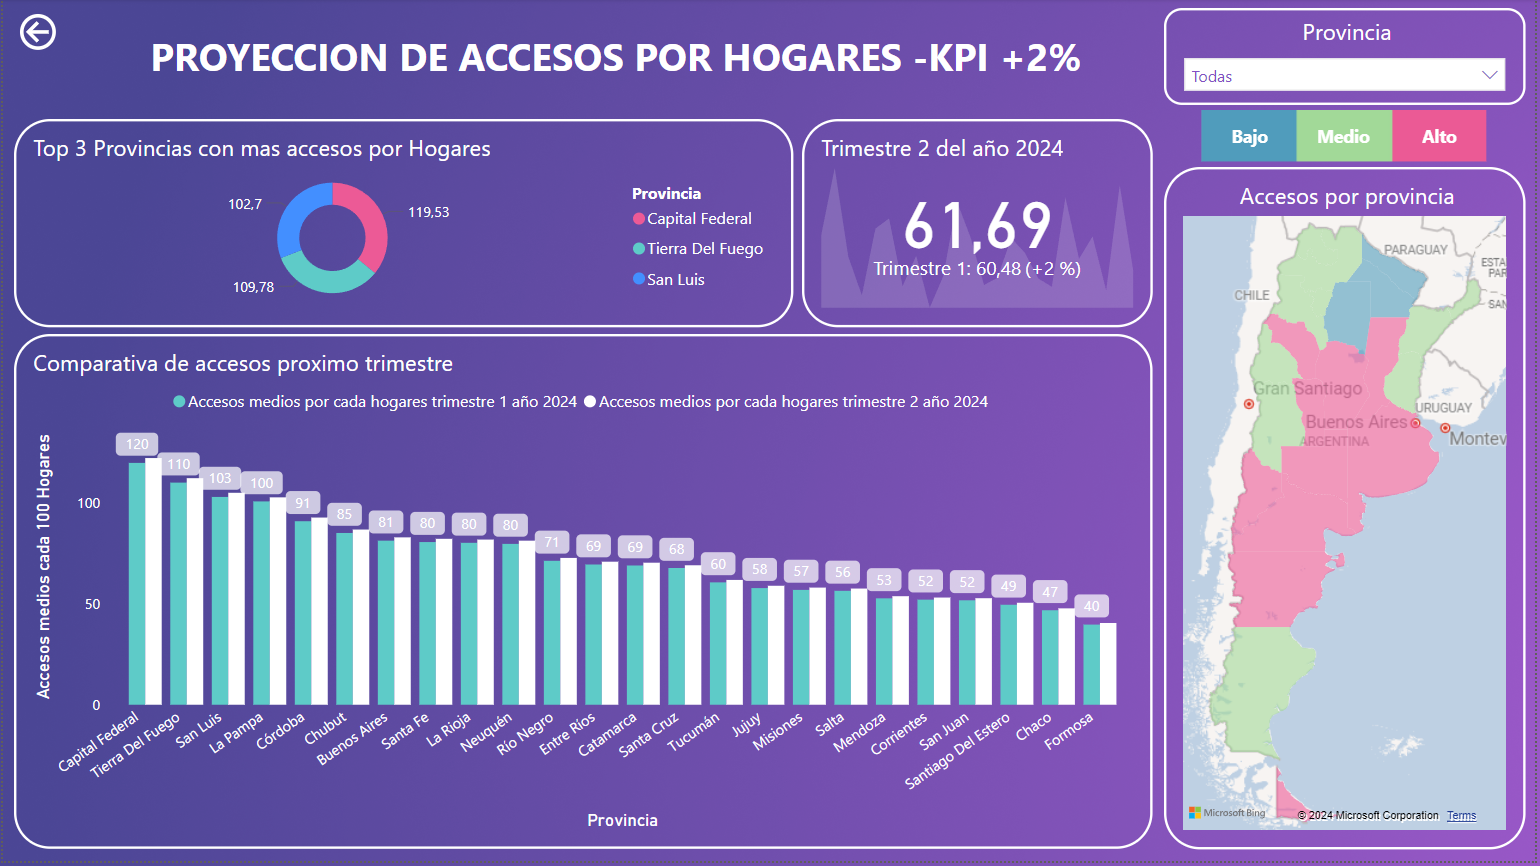

Layout of this report page (visuals, bound fields, positions):
{"tool":"powerbi","page":{"name":"Proyeccion de accesos por cada 100 hogares","canvas":[1280,720],"ordinal":2},"visuals":[{"type":"lineClusteredColumnComboChart","title":"Comparativa de accesos proximo trimestre","fields":{"Category":["acceso_por_prov_poblacion_hogares.Provincia"],"Y":["Median(acceso_por_prov_poblacion_hogares.Accesos por cada 100 hogares)","Median(acceso_por_prov_poblacion_hogares.Nuevo_acceso)"]},"box":[9.1,280,950.9,430],"z":0},{"type":"actionButton","box":[9.1,7.3,40,40],"z":1000},{"type":"slicer","title":"Provincia","fields":{"Values":["acceso_por_prov_poblacion_hogares.Provincia"]},"box":[970,7.3,301.8,80.9],"z":2000},{"type":"kpi","title":"Trimestre 2 del año 2024","fields":{"Goal":["Median(acceso_por_prov_poblacion_hogares.Accesos por cada 100 hogares)"],"TrendLine":["acceso_por_prov_poblacion_hogares.Provincia"],"Indicator":["Median(acceso_por_prov_poblacion_hogares.Nuevo_acceso)"]},"box":[667.3,100,292.7,173.6],"z":3000},{"type":"textbox","box":[84.5,20,799.1,56.4],"z":4000},{"type":"filledMap","title":"Accesos por provincia","fields":{"Y":["Avg(coordenadas.Latitud)"],"X":["Avg(coordenadas.Longitud)"],"Category":["coordenadas.Provincia"],"Series":["acceso_por_prov_poblacion_hogares.Accesos por cada 100 hogares"]},"box":[970,133.6,301.8,576.4],"z":5000},{"type":"donutChart","title":"Top 3 Provincias con mas accesos por Hogares","fields":{"Category":["acceso_por_prov_poblacion_hogares.Provincia"],"Y":["Median(acceso_por_prov_poblacion_hogares.Accesos por cada 100 hogares)"]},"box":[9.1,100,650.9,173.6],"z":6000}]}

Visuals, with their boxes in screenshot pixels (x1, y1, x2, y2), scaled from the page's 1280x720 canvas onto the 1540x866 screenshot:
"Comparativa de accesos proximo trimestre" lineClusteredColumnComboChart: <box>11,337,1155,854</box>
actionButton: <box>11,9,59,57</box>
"Provincia" slicer: <box>1167,9,1530,106</box>
"Trimestre 2 del año 2024" kpi: <box>803,120,1155,329</box>
textbox: <box>102,24,1063,92</box>
"Accesos por provincia" filledMap: <box>1167,161,1530,854</box>
"Top 3 Provincias con mas accesos por Hogares" donutChart: <box>11,120,794,329</box>
